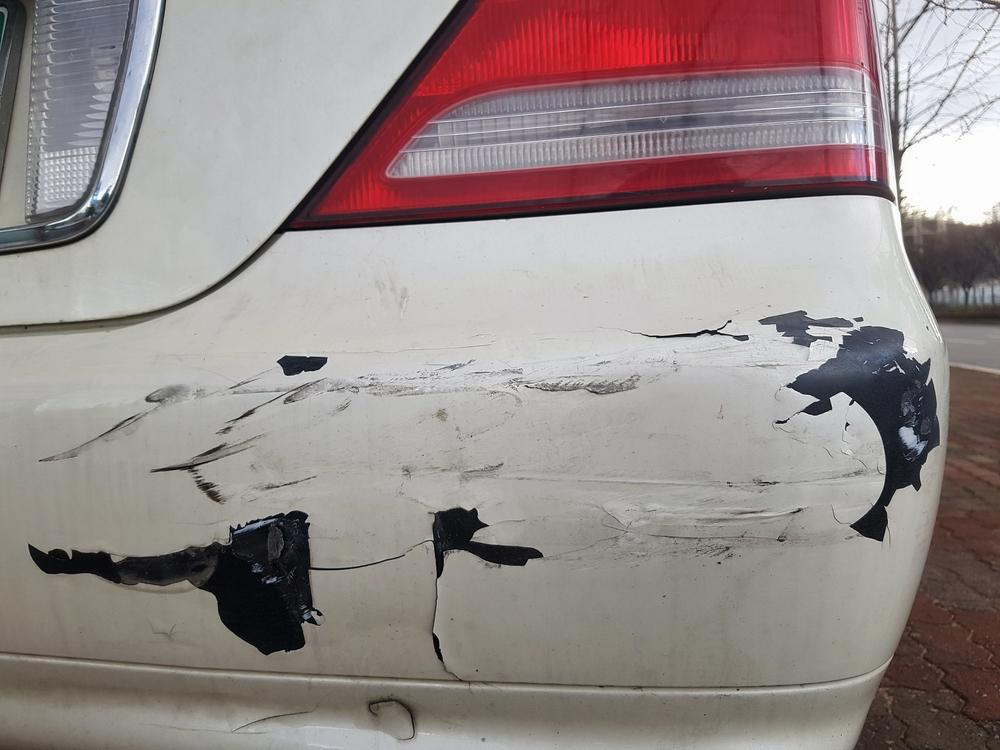crack: (26, 503, 545, 683), (595, 318, 749, 343)
scratch: (34, 305, 939, 565)
